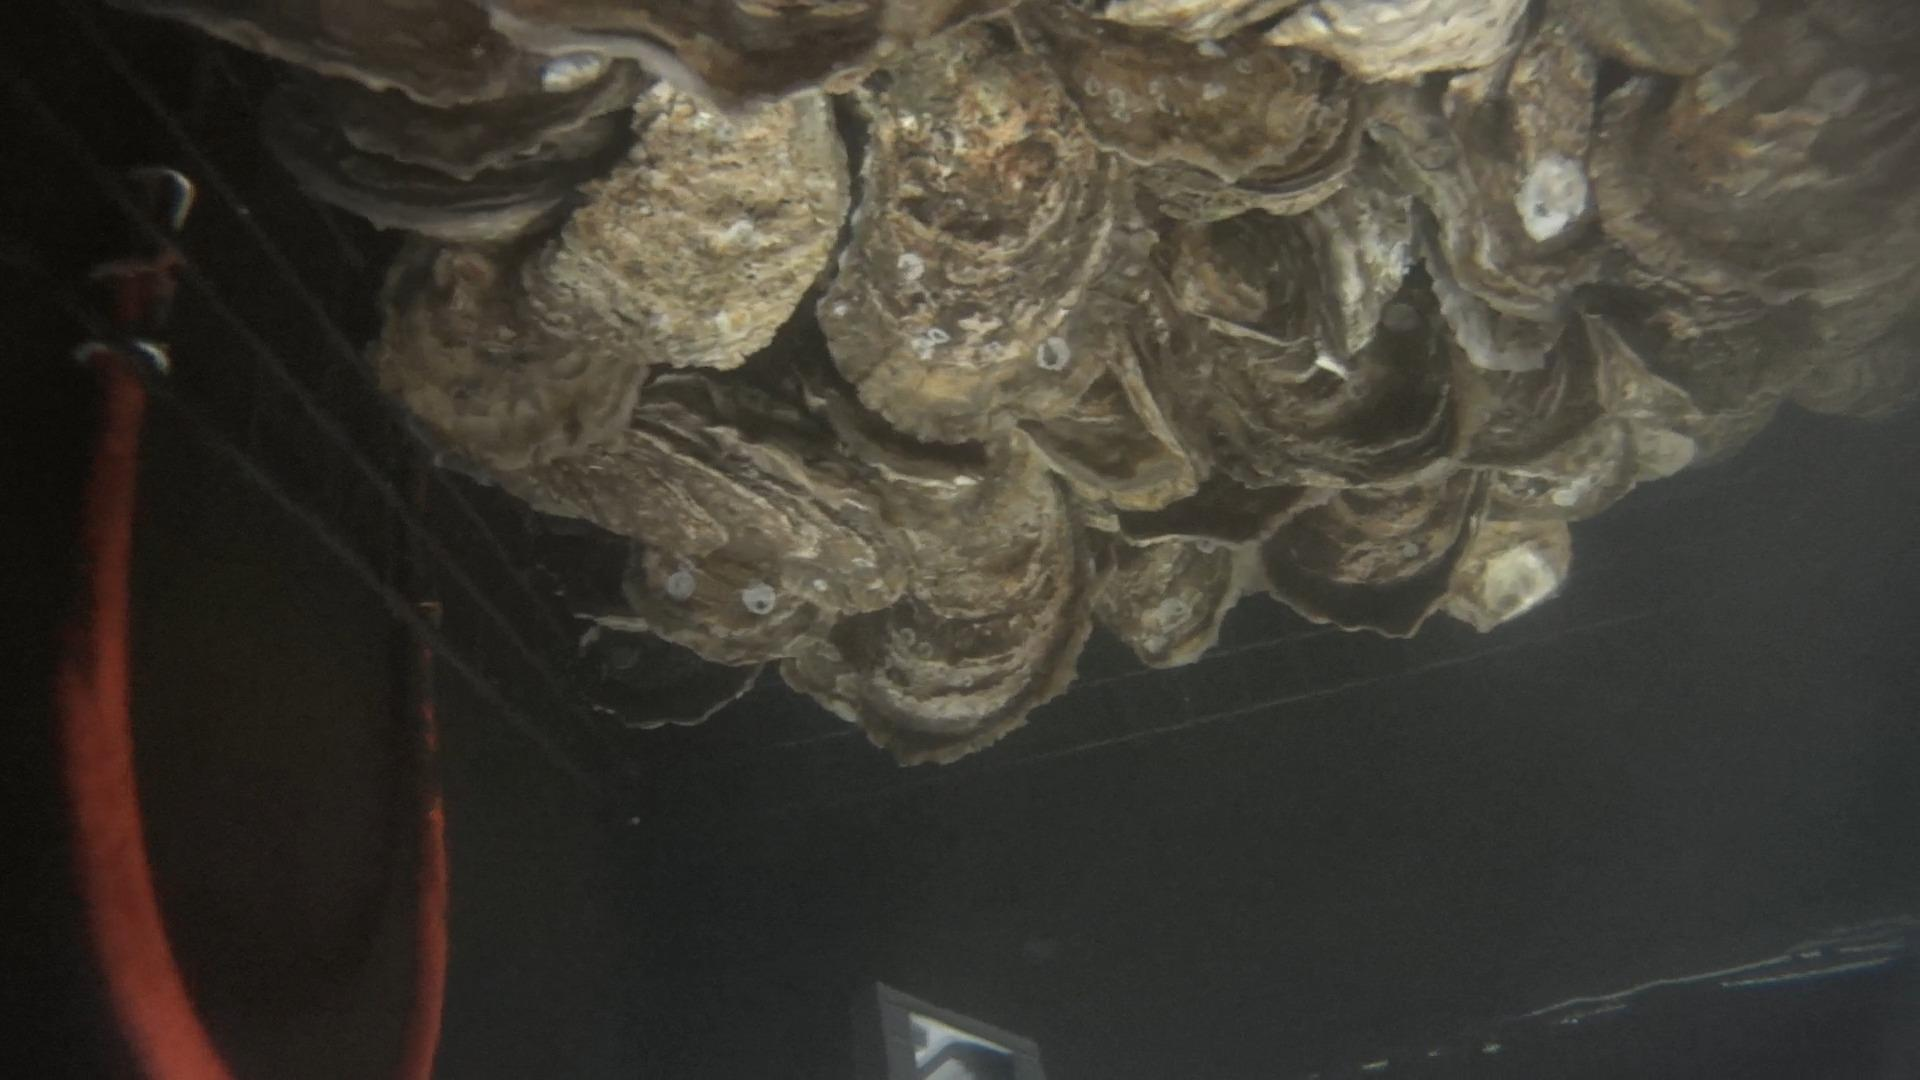3: (512, 375, 906, 611), (1021, 1, 1364, 214), (1184, 266, 1457, 485), (1371, 66, 1600, 319), (262, 80, 597, 240), (488, 0, 976, 105), (131, 0, 545, 103), (1263, 468, 1480, 636), (1021, 342, 1200, 509), (1095, 538, 1241, 666)
Oyster-Closed: (521, 79, 848, 372), (1288, 152, 1416, 359)
Oyster-Open: (1592, 0, 1920, 454), (818, 22, 1154, 442), (782, 433, 1091, 762), (375, 245, 647, 471), (626, 549, 836, 666), (1509, 18, 1600, 240), (1172, 208, 1317, 342)
